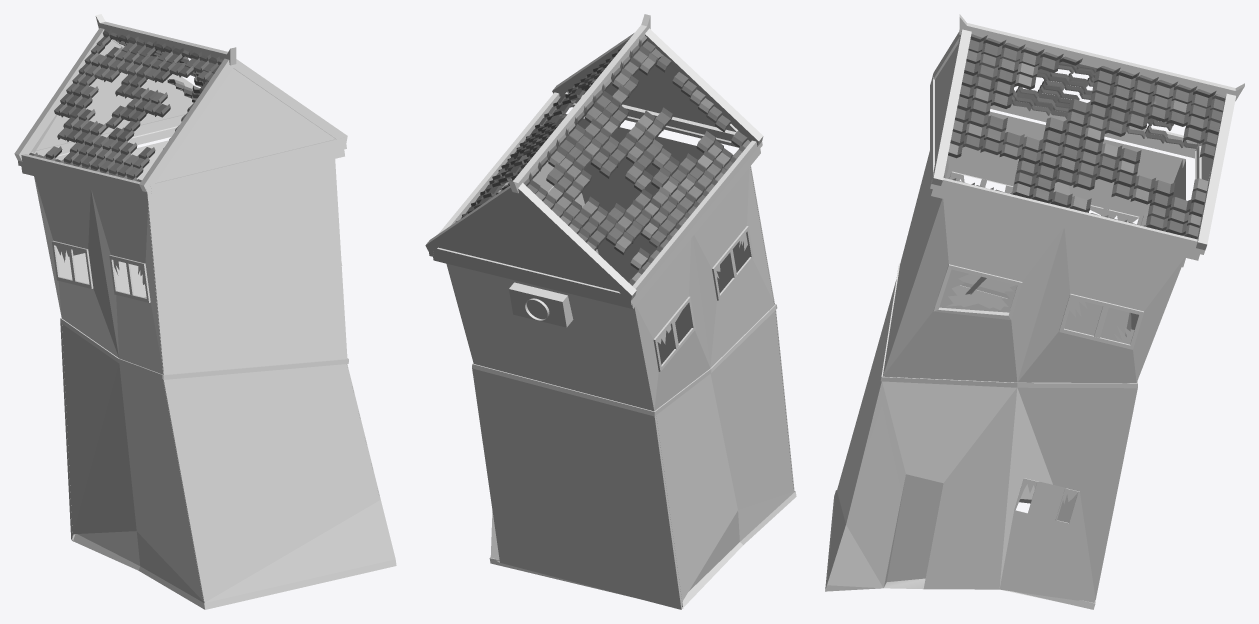
File: Casa2DestruidaVer2.fbx
3 views of the same model, side by side, from view 1: azimuth 30°, elevation 25°; view 2: azimuth 150°, elevation 25°; view 3: azimuth 270°, elevation 25° (orthographic). The views are drawn at different scales.
Parts seen in each view (by area): view 1: Casa2DestruidaVer2; view 2: Casa2DestruidaVer2; view 3: Casa2DestruidaVer2.
Part boxes in pixels (x1,y1,x2,y2): Casa2DestruidaVer2: (14,14,396,609); Casa2DestruidaVer2: (425,14,796,609); Casa2DestruidaVer2: (825,14,1244,609).
Bounding box in the file's own units: 992 × 2404 × 1672.
